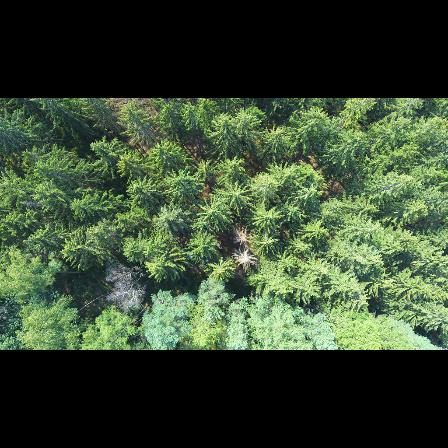Dead: (105, 259, 147, 314), (231, 248, 261, 270), (231, 225, 253, 248)
